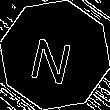N_N: (30, 26, 80, 84)
